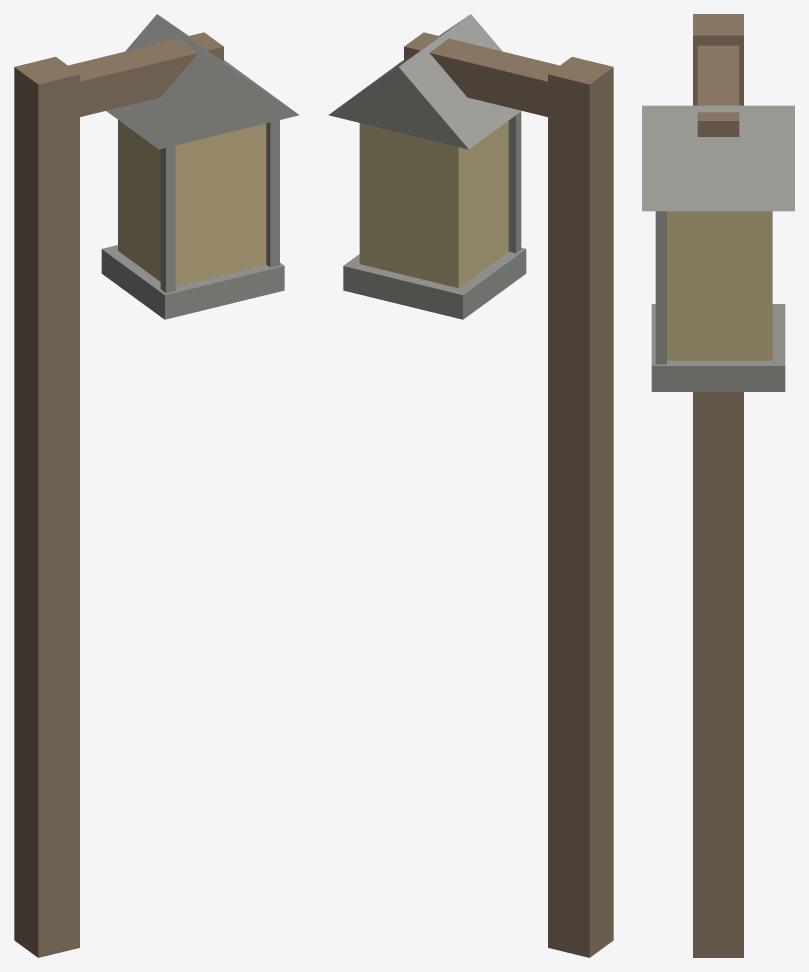
The model's file is lantern-post.glb.
The picture shows the model from 3 angles, left to right: view 1: azimuth 30°, elevation 25°; view 2: azimuth 150°, elevation 25°; view 3: azimuth 270°, elevation 25°; orthographic projection. The views are drawn at different scales.
Parts seen in each view (by area): view 1: lantern_post; view 2: lantern_post; view 3: lantern_post.
Part boxes in pixels (box(x1,y1,x2,y2)): lantern_post: box(14, 14, 299, 957); lantern_post: box(328, 14, 613, 957); lantern_post: box(642, 14, 794, 957).
Size of the model in its own units: 0.2275 by 0.8 by 0.12.
